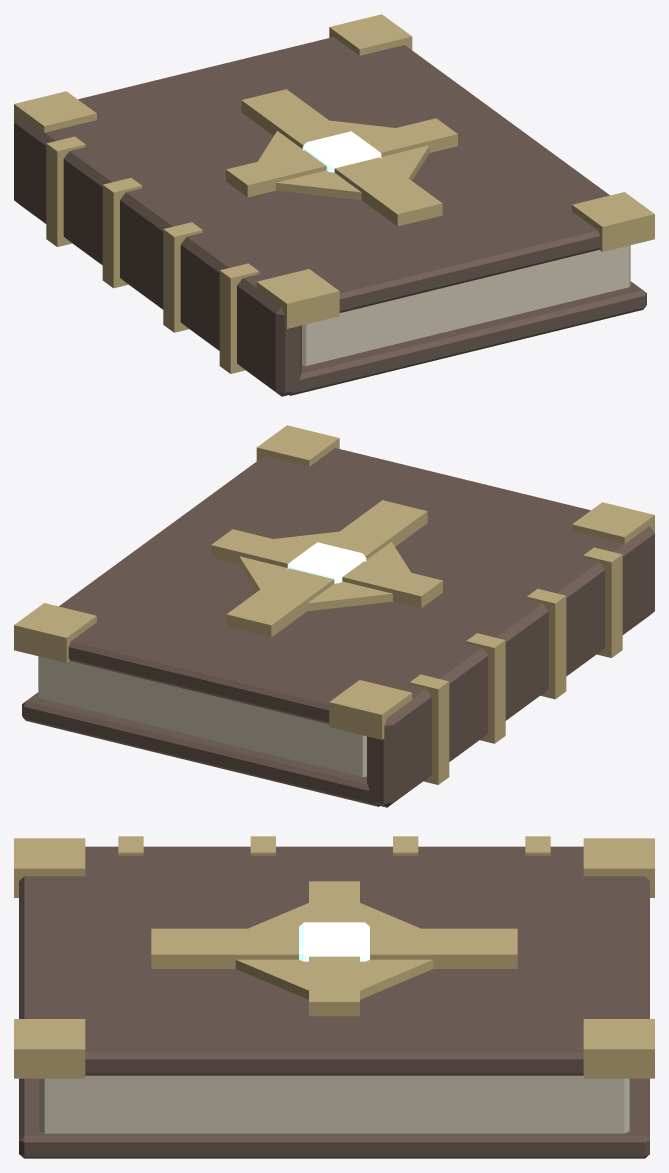
The model's file is prop_occult_book.glb.
3 renders of one model, top to bottom at view 1: azimuth 30°, elevation 25°; view 2: azimuth 150°, elevation 25°; view 3: azimuth 270°, elevation 25°, orthographic. The views are drawn at different scales.
Parts seen in each view (by area): view 1: Prop_OccultBook; view 2: Prop_OccultBook; view 3: Prop_OccultBook.
Boxes of the visible parts, x1=… form: Prop_OccultBook: x1=14, y1=14, x2=654, y2=396; Prop_OccultBook: x1=14, y1=425, x2=654, y2=807; Prop_OccultBook: x1=14, y1=836, x2=654, y2=1158.
Bounding box in the file's own units: 0.506 × 0.141 × 0.63.
